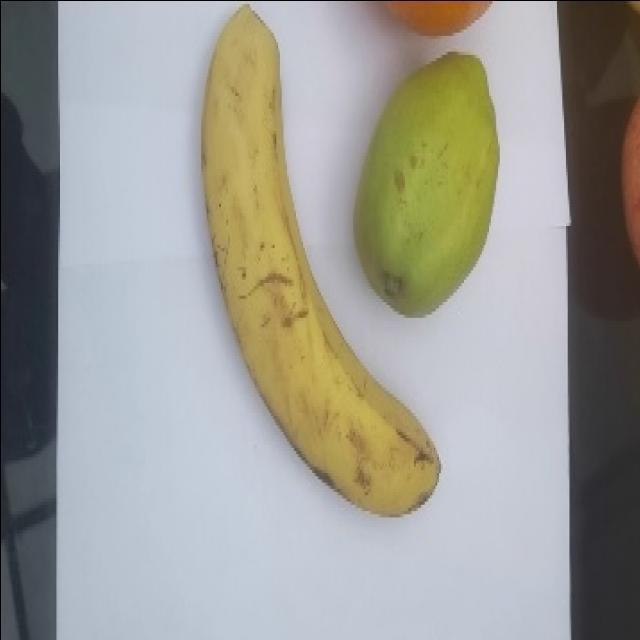Apple: (621, 108, 640, 272)
Banana: (201, 6, 447, 521)
Orange: (379, 0, 495, 42)
